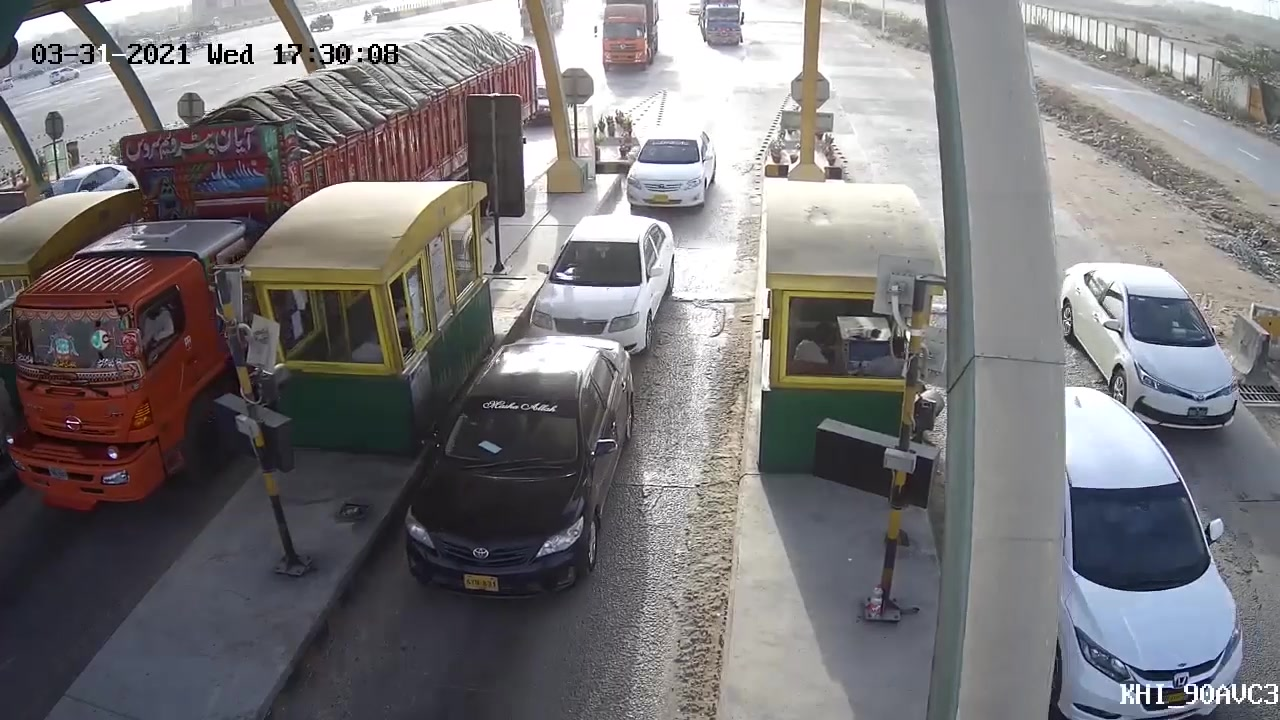F1: (394, 333, 640, 611), (513, 209, 680, 353)
